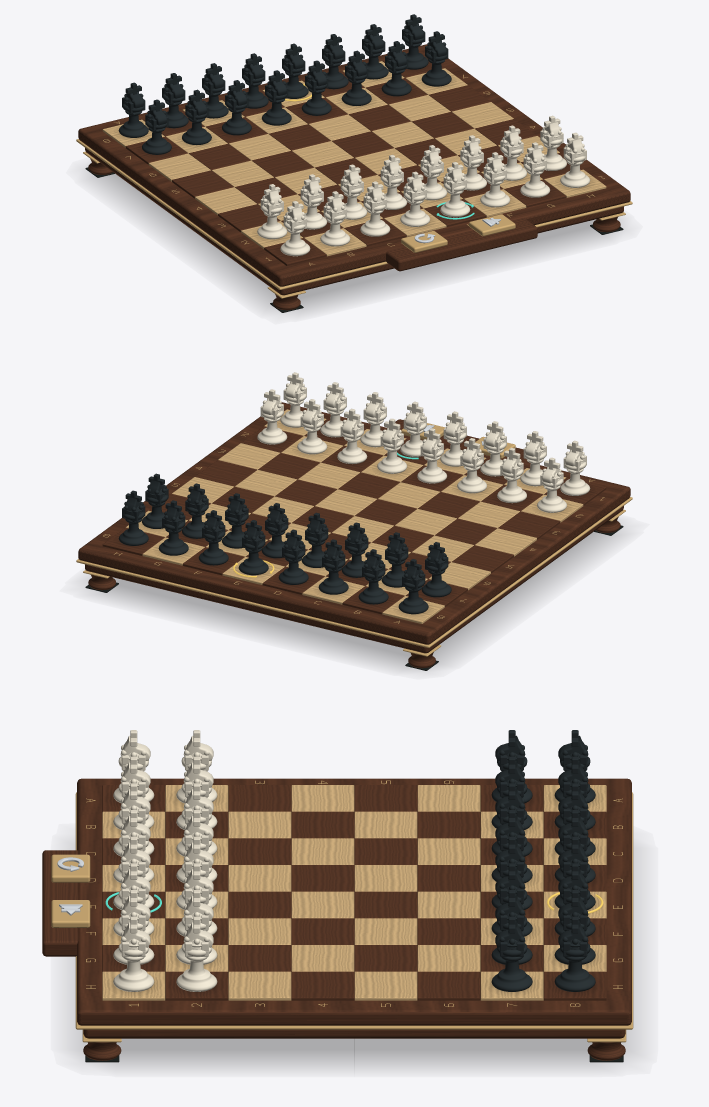
The model's file is mini-chess.glb.
The picture shows the model from 3 angles, top to bottom: view 1: azimuth 30°, elevation 25°; view 2: azimuth 150°, elevation 25°; view 3: azimuth 270°, elevation 25°; orthographic projection. The views are drawn at different scales.
Parts seen in each view (by area): view 1: Lacquered walnut frame, Board grounding shadow, Front control rail, Beveled lower plinth, Fine brass perimeter, Square a5, Square a6, Square a4, Square e5, Square e6, Square b5, Square d5 (+54 smaller); view 2: Lacquered walnut frame, Board grounding shadow, Beveled lower plinth, Fine brass perimeter, Square a4, Square a5, Square a3, Square e4, Square b4, Square d4, Square e3, Square f4 (+51 smaller); view 3: Lacquered walnut frame, Board grounding shadow, Beveled lower plinth, Fine brass perimeter, Front control rail, Square h6, Square h5, Square h4, Square h3, Square b6, Square e6, Square b5 (+65 smaller).
Part boxes in pixels (x1,y1,x2,y2): Lacquered walnut frame: [78, 44, 630, 286]; Board grounding shadow: [91, 174, 611, 311]; Front control rail: [386, 218, 537, 271]; Beveled lower plinth: [85, 148, 623, 295]; Fine brass perimeter: [76, 139, 632, 289]; Square a5: [172, 170, 233, 198]; Square a6: [148, 153, 210, 181]; Square a4: [195, 187, 256, 215]; Square e5: [332, 131, 393, 157]; Square e6: [308, 114, 370, 140]; Square b5: [212, 160, 273, 187]; Square d5: [292, 141, 353, 167]; Lacquered walnut frame: [78, 402, 630, 644]; Board grounding shadow: [96, 532, 618, 668]; Beveled lower plinth: [85, 506, 623, 653]; Fine brass perimeter: [76, 497, 632, 647]; Square a4: [475, 528, 536, 556]; Square a5: [452, 545, 513, 573]; Square a3: [498, 511, 560, 539]; Square e4: [315, 489, 376, 515]; Square b4: [435, 518, 496, 545]; Square d4: [355, 499, 416, 525]; Square e3: [338, 472, 400, 498]; Square f4: [275, 479, 336, 506]; Lacquered walnut frame: [77, 778, 631, 1025]; Board grounding shadow: [77, 1030, 631, 1068]; Beveled lower plinth: [83, 1029, 625, 1038]; Fine brass perimeter: [75, 792, 633, 1029]; Front control rail: [42, 850, 78, 956]; Square h6: [417, 971, 480, 1000]; Square h5: [354, 971, 417, 1000]; Square h4: [291, 971, 354, 1000]; Square h3: [228, 971, 291, 1000]; Square b6: [417, 811, 480, 838]; Square e6: [417, 891, 480, 918]; Square b5: [354, 811, 417, 838].
Size of what is drawn, in the model's own units: 10.8 by 2.18 by 10.8.
Materials: 42 (2 with a texture image).
